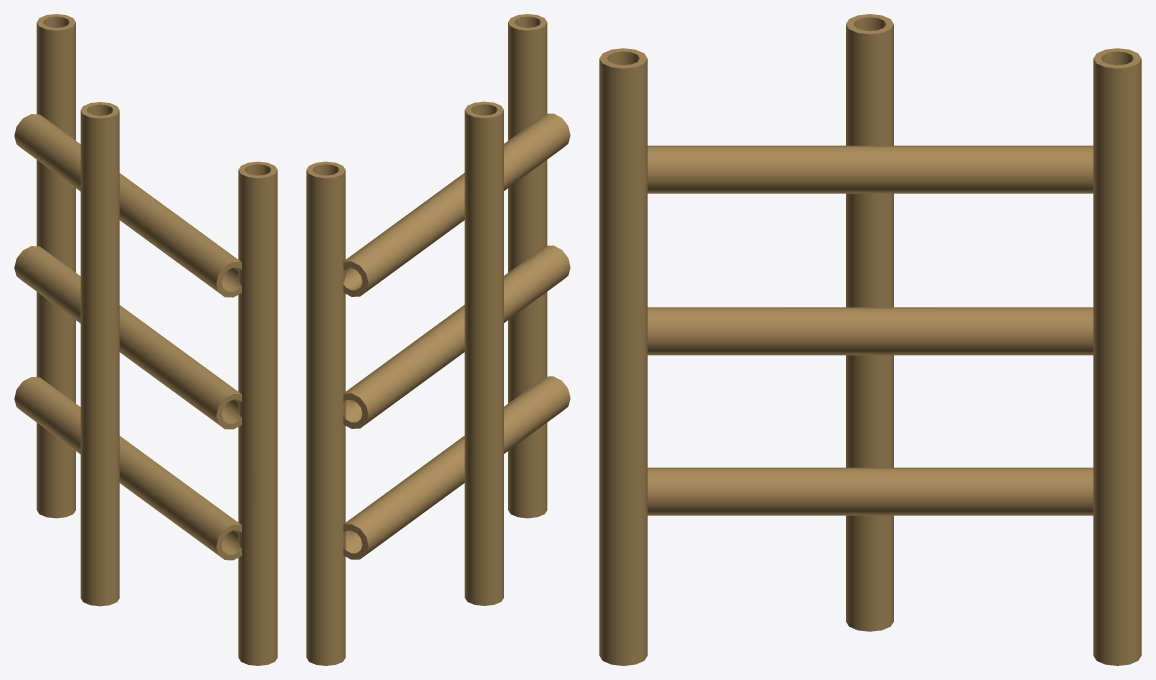
Rendered from Fence.fbx.
3 views of the same model, side by side, from view 1: azimuth 30°, elevation 25°; view 2: azimuth 150°, elevation 25°; view 3: azimuth 270°, elevation 25° (orthographic). The views are drawn at different scales.
Visible parts, largest first — view 1: Cylinder.002, Cylinder, Cylinder.001, Cylinder.004, Cylinder.006, Cylinder.005; view 2: Cylinder.002, Cylinder.001, Cylinder, Cylinder.006, Cylinder.004, Cylinder.005; view 3: Cylinder, Cylinder.001, Cylinder.002, Cylinder.004, Cylinder.005, Cylinder.006.
Part boxes in pixels (x1=…): Cylinder.002: x1=80, y1=102, x2=119, y2=606; Cylinder: x1=238, y1=161, x2=277, y2=665; Cylinder.001: x1=36, y1=14, x2=75, y2=518; Cylinder.004: x1=14, y1=246, x2=241, y2=429; Cylinder.006: x1=14, y1=114, x2=241, y2=297; Cylinder.005: x1=14, y1=377, x2=241, y2=560; Cylinder.002: x1=464, y1=101, x2=503, y2=605; Cylinder.001: x1=306, y1=161, x2=345, y2=665; Cylinder: x1=508, y1=14, x2=547, y2=518; Cylinder.006: x1=343, y1=113, x2=570, y2=296; Cylinder.004: x1=343, y1=245, x2=570, y2=428; Cylinder.005: x1=343, y1=376, x2=570, y2=559; Cylinder: x1=599, y1=48, x2=647, y2=665; Cylinder.001: x1=1093, y1=48, x2=1141, y2=665; Cylinder.002: x1=846, y1=14, x2=893, y2=631; Cylinder.004: x1=647, y1=307, x2=1093, y2=355; Cylinder.005: x1=647, y1=467, x2=1093, y2=515; Cylinder.006: x1=647, y1=145, x2=1093, y2=193.
Size of the model in its own units: 10.49 by 53.52 by 44.02.
